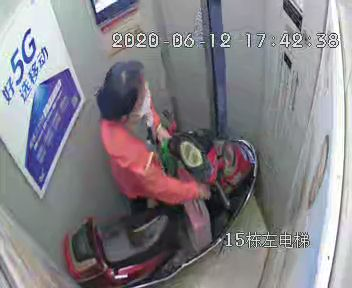Electric-bicycle: (66, 129, 257, 288)
